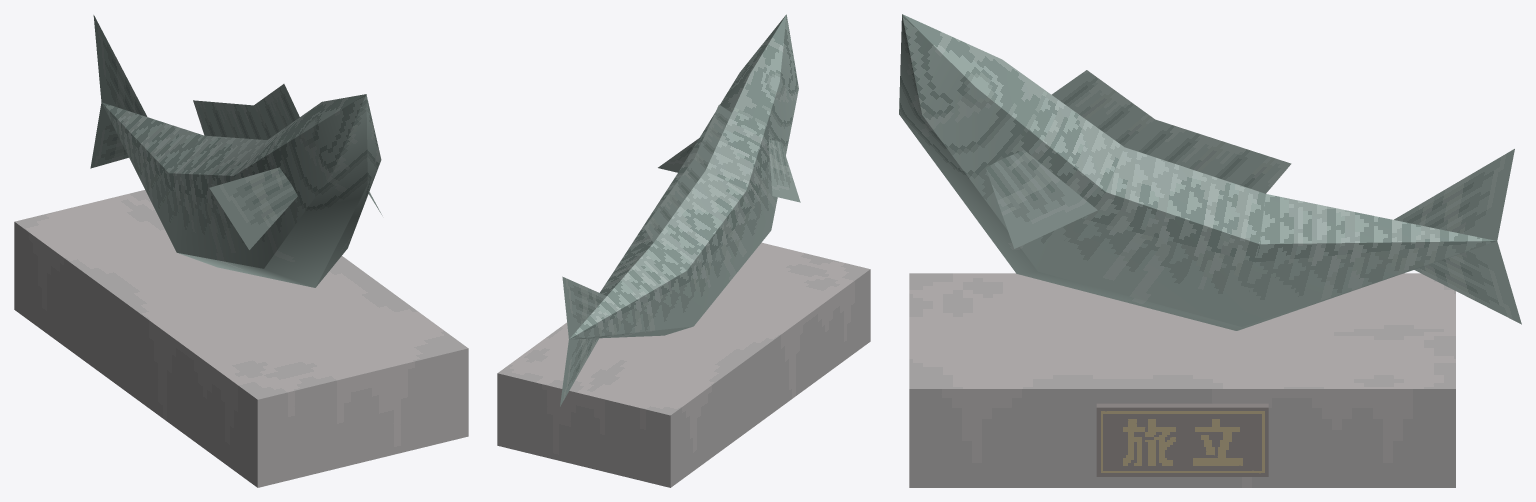
The model's file is 03e9_Fish_Statue.glb.
3 renders of one model, left to right at view 1: azimuth 30°, elevation 25°; view 2: azimuth 150°, elevation 25°; view 3: azimuth 270°, elevation 25°, orthographic. The views are drawn at different scales.
Parts seen in each view (by area): view 1: part_0; view 2: part_0; view 3: part_0.
Boxes of the visible parts, bbox=[...] form: part_0: bbox=[14, 15, 468, 487]; part_0: bbox=[497, 14, 870, 487]; part_0: bbox=[899, 14, 1521, 487].
Bounding box in the file's own units: 0.465 × 0.7564 × 1.03.
1 material, 1 textured.
